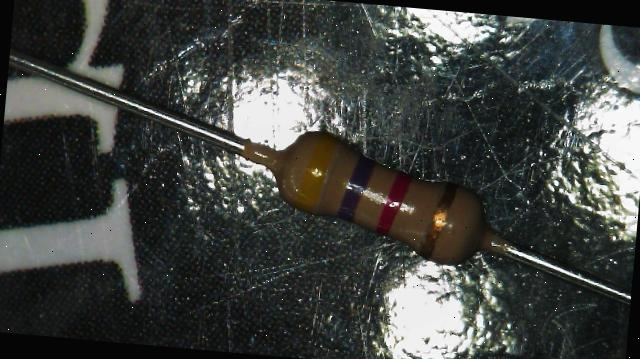gold: (422, 180, 458, 258)
red: (376, 170, 411, 237)
resistor: (250, 104, 519, 287)
violet: (337, 154, 376, 223)
yellow: (297, 134, 337, 211)
